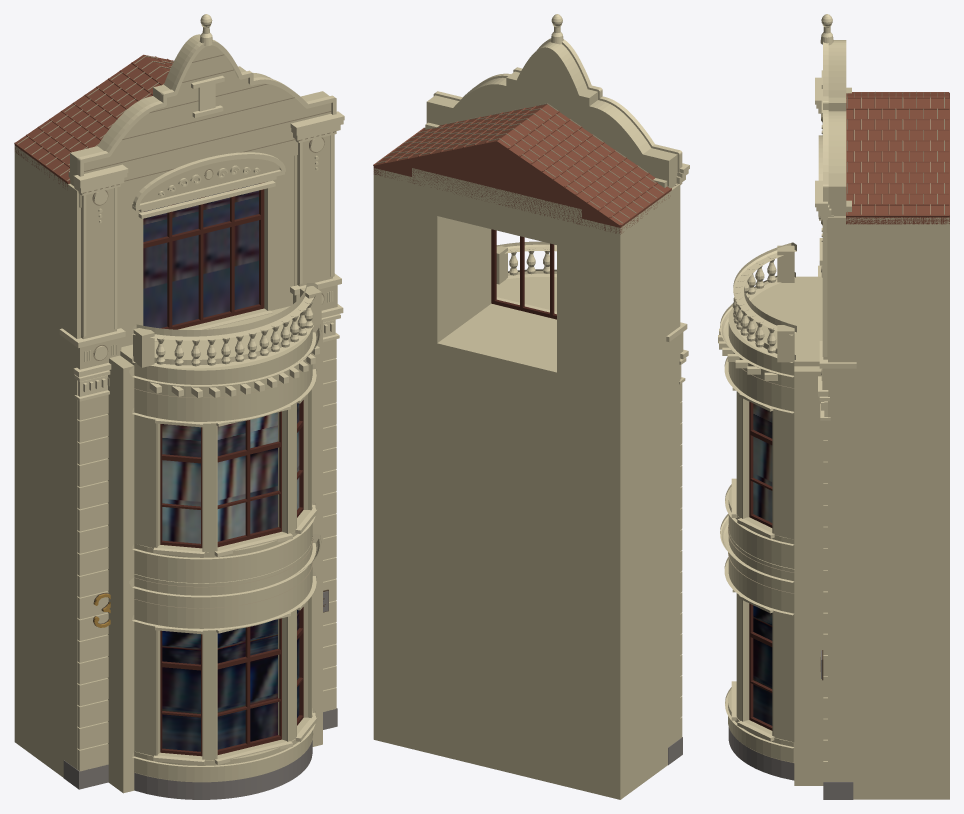
File: jingan-eye-hospital-building-three-front-raw.glb
3 renders of one model, left to right at view 1: azimuth 30°, elevation 25°; view 2: azimuth 150°, elevation 25°; view 3: azimuth 270°, elevation 25°, orthographic. The views are drawn at different scales.
Visible parts, largest first — view 1: 市眼科医院3号楼西南弧窗与山墙; view 2: 市眼科医院3号楼西南弧窗与山墙; view 3: 市眼科医院3号楼西南弧窗与山墙.
Part boxes in pixels (x1,y1,x2,y2): 市眼科医院3号楼西南弧窗与山墙: (14, 14, 344, 799); 市眼科医院3号楼西南弧窗与山墙: (373, 14, 689, 799); 市眼科医院3号楼西南弧窗与山墙: (718, 14, 949, 799).
Size of the model in its own units: 6.65 by 17.84 by 5.17.
13 materials, 5 textured.
